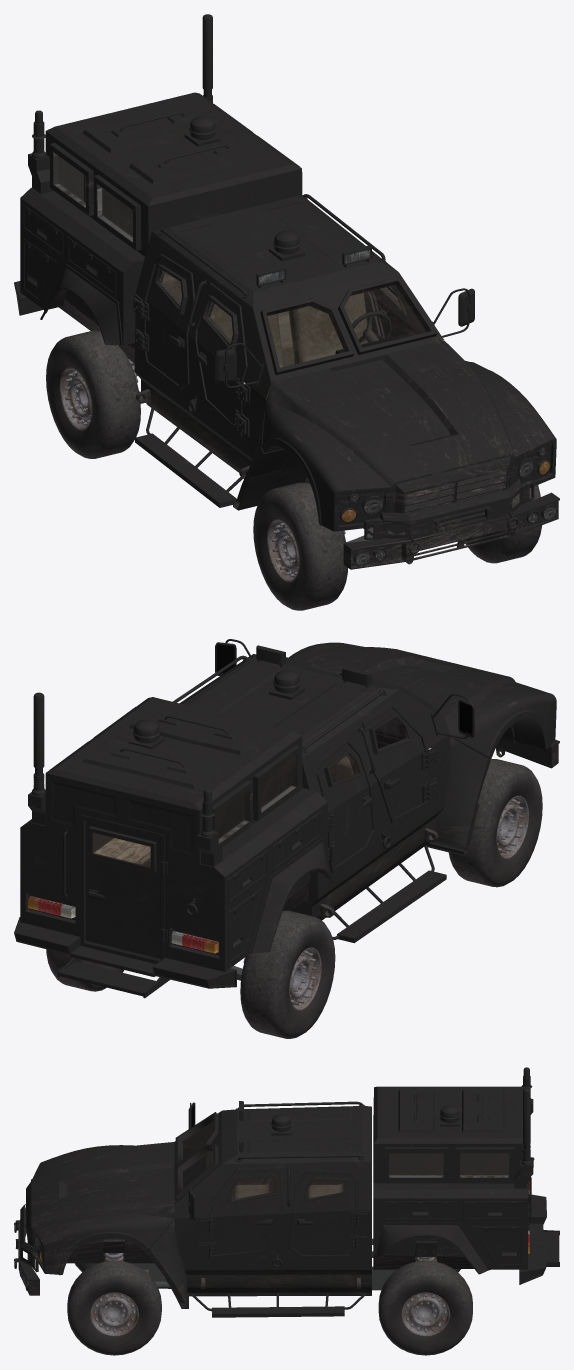
The model's file is armored-police-vehicle.glb.
The picture shows the model from 3 angles, top to bottom: view 1: azimuth 30°, elevation 25°; view 2: azimuth 150°, elevation 25°; view 3: azimuth 270°, elevation 25°; orthographic projection. The views are drawn at different scales.
Visible parts, largest first — view 1: body_front, body_rear, body_mid, wheel_RR, wheel_FR, bumper, door_RR, seats, door_FR, grill, step_side, body_rear_fender (+17 smaller); view 2: body_rear, body_mid, body_front, door_rear, wheel_RR, wheel_FR, step_rear, door_RR, door_FR, rear_in, body_rear_fender, body_rear_antennas (+14 smaller); view 3: body_mid, body_rear, body_front, wheel_FL, wheel_RL, door_FL, door_RL, rear_in, body_rear_fender, wheel_well_R, step_rear, step_side (+15 smaller).
Boxes of the visible parts, bbox=[...] form: body_front: bbox=[233, 340, 556, 531]; body_rear: bbox=[20, 92, 302, 345]; body_mid: bbox=[134, 194, 444, 483]; wheel_RR: bbox=[46, 330, 140, 458]; wheel_FR: bbox=[253, 482, 347, 610]; bumper: bbox=[343, 478, 559, 569]; door_RR: bbox=[139, 253, 194, 389]; seats: bbox=[162, 272, 368, 400]; door_FR: bbox=[193, 282, 247, 436]; grill: bbox=[394, 456, 511, 525]; step_side: bbox=[135, 408, 242, 507]; body_rear_fender: bbox=[40, 263, 122, 345]; body_rear: bbox=[20, 697, 327, 971]; body_mid: bbox=[179, 654, 450, 920]; body_front: bbox=[289, 642, 556, 855]; door_rear: bbox=[80, 814, 164, 963]; wheel_RR: bbox=[240, 910, 335, 1038]; wheel_FR: bbox=[448, 759, 542, 887]; step_rear: bbox=[14, 917, 236, 998]; door_RR: bbox=[316, 737, 376, 872]; door_FR: bbox=[362, 702, 432, 823]; rear_in: bbox=[93, 755, 296, 866]; body_rear_fender: bbox=[249, 837, 334, 953]; body_rear_antennas: bbox=[28, 692, 222, 866]; body_mid: bbox=[174, 1106, 371, 1296]; body_rear: bbox=[373, 1086, 527, 1269]; body_front: bbox=[31, 1142, 188, 1308]; wheel_FL: bbox=[67, 1260, 161, 1355]; wheel_RL: bbox=[378, 1260, 472, 1355]; door_FL: bbox=[208, 1167, 285, 1259]; door_RL: bbox=[288, 1169, 358, 1258]; rear_in: bbox=[389, 1153, 509, 1177]; body_rear_fender: bbox=[374, 1222, 490, 1274]; wheel_well_R: bbox=[373, 1236, 473, 1269]; step_rear: bbox=[519, 1194, 559, 1284]; step_side: bbox=[189, 1293, 367, 1317].
Size of the model in its own units: 2.83 by 3.58 by 6.88.
Materials: 5 (5 with a texture image).
